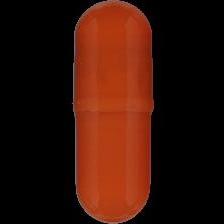54868-6185: (0, 0, 224, 224)
